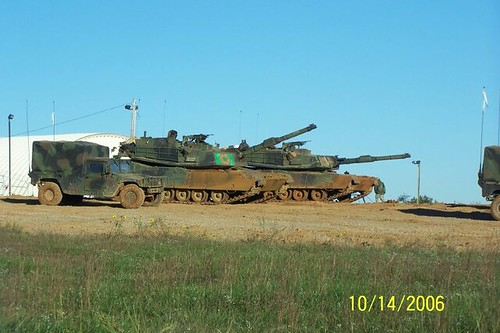grass: (1, 226, 500, 333)
sky: (9, 1, 500, 126)
tank: (128, 123, 317, 209), (262, 138, 416, 201)
truck: (27, 136, 156, 205)
